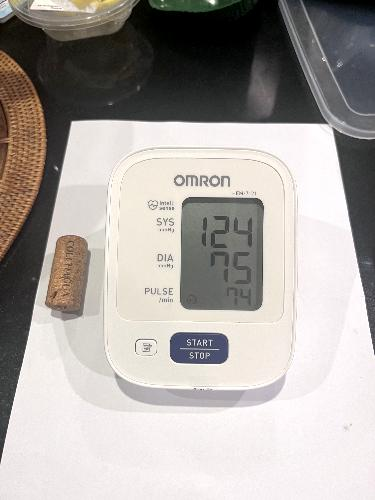bpm: (179, 195, 265, 312)
